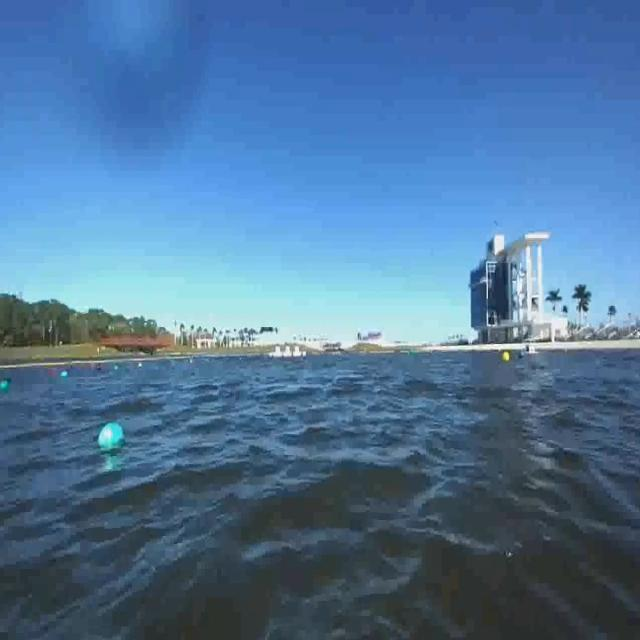green-buoy: (97, 424, 127, 456), (0, 382, 11, 393)
yellow-buoy: (502, 350, 511, 364)
